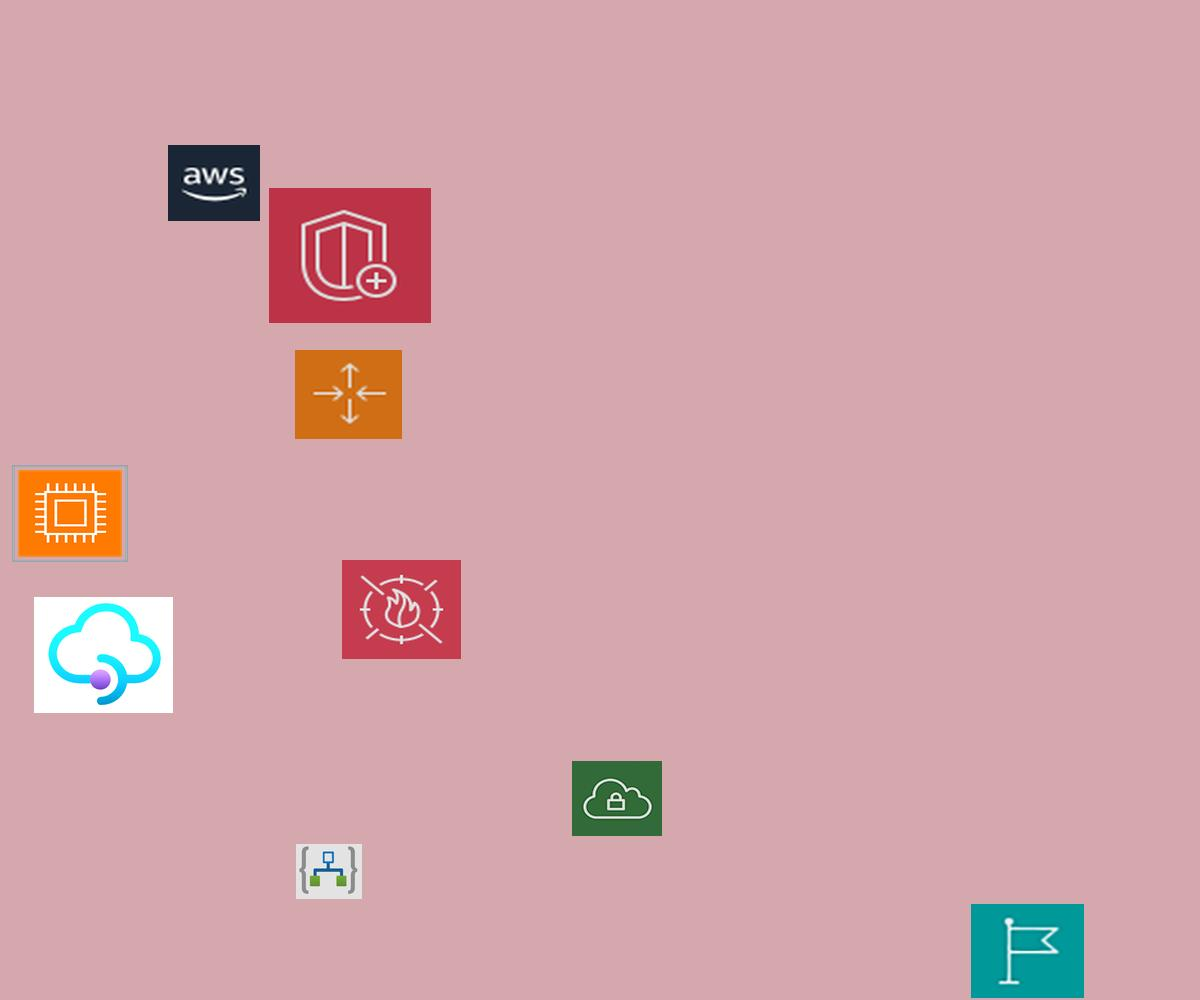AWS-Category_Compute: (12, 465, 128, 562)
AWS-Cloud-logo: (168, 145, 260, 221)
AWS-Private_vpc: (572, 761, 662, 836)
AWS-Region: (971, 904, 1084, 998)
AWS-Scaling-group: (295, 350, 402, 439)
AWS-Shield: (269, 188, 431, 323)
AWS-WAF: (342, 560, 461, 659)
Azure_api_gateway: (34, 597, 173, 713)
Azure_integration-204-Logic-Apps: (296, 844, 362, 899)
